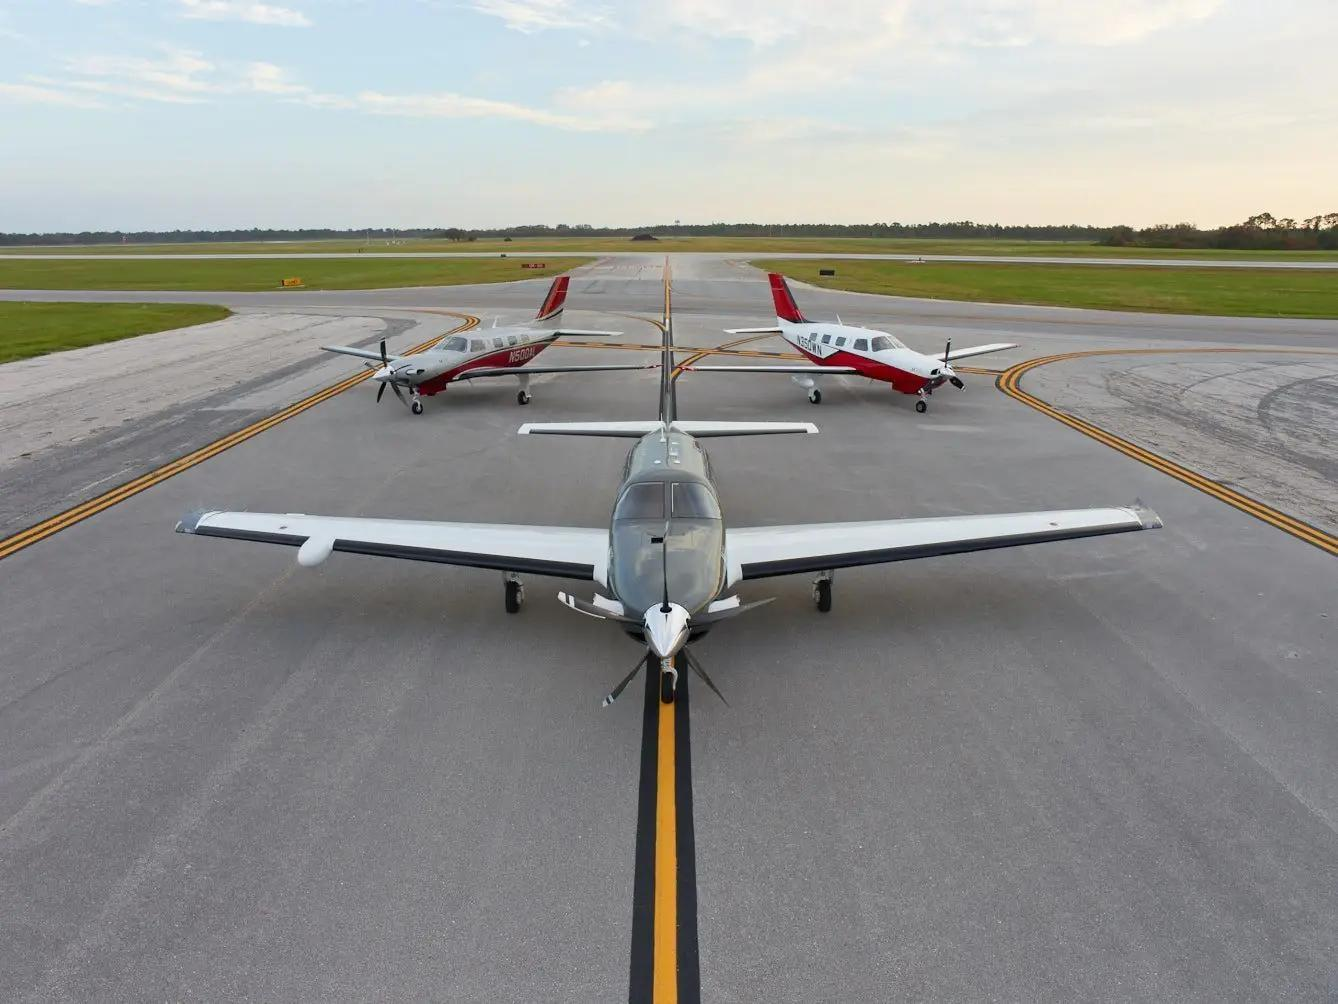Airplane: (170, 310, 1171, 714), (670, 271, 1025, 416), (315, 274, 668, 419)
